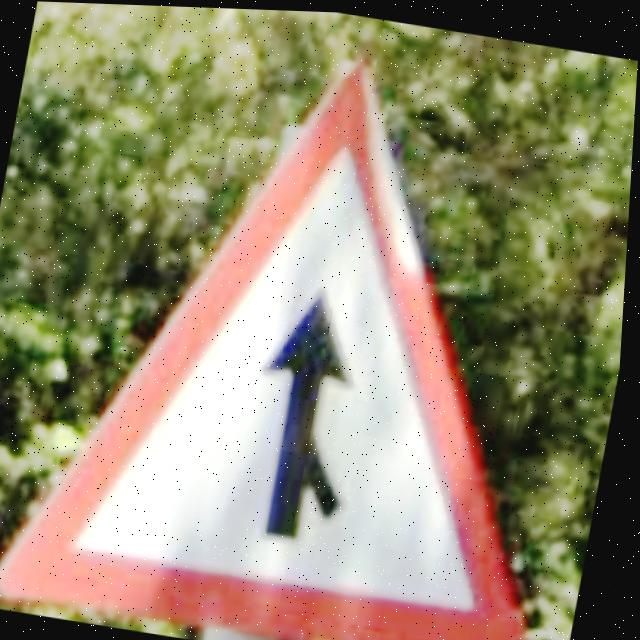rightmerge: (0, 59, 539, 640)
